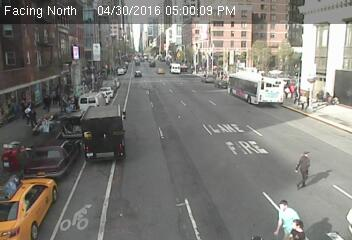neg: (170, 163, 194, 194), (84, 152, 106, 181), (30, 15, 50, 43), (131, 118, 149, 142), (170, 53, 188, 76), (66, 35, 84, 58), (42, 154, 59, 177), (69, 120, 86, 142), (133, 178, 148, 199), (86, 42, 100, 61), (204, 115, 218, 133), (205, 34, 218, 51), (91, 90, 104, 107)
pos: (287, 145, 320, 189), (269, 193, 298, 232), (18, 99, 36, 123), (300, 86, 315, 105)
